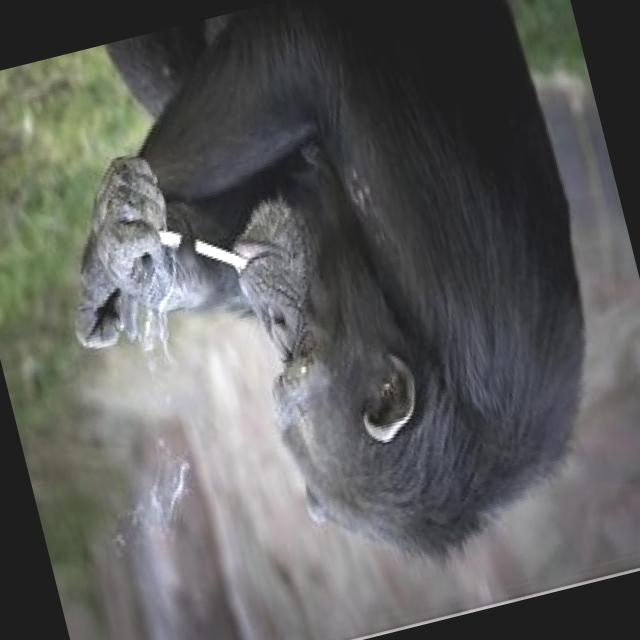smoke: (190, 225, 252, 284)
